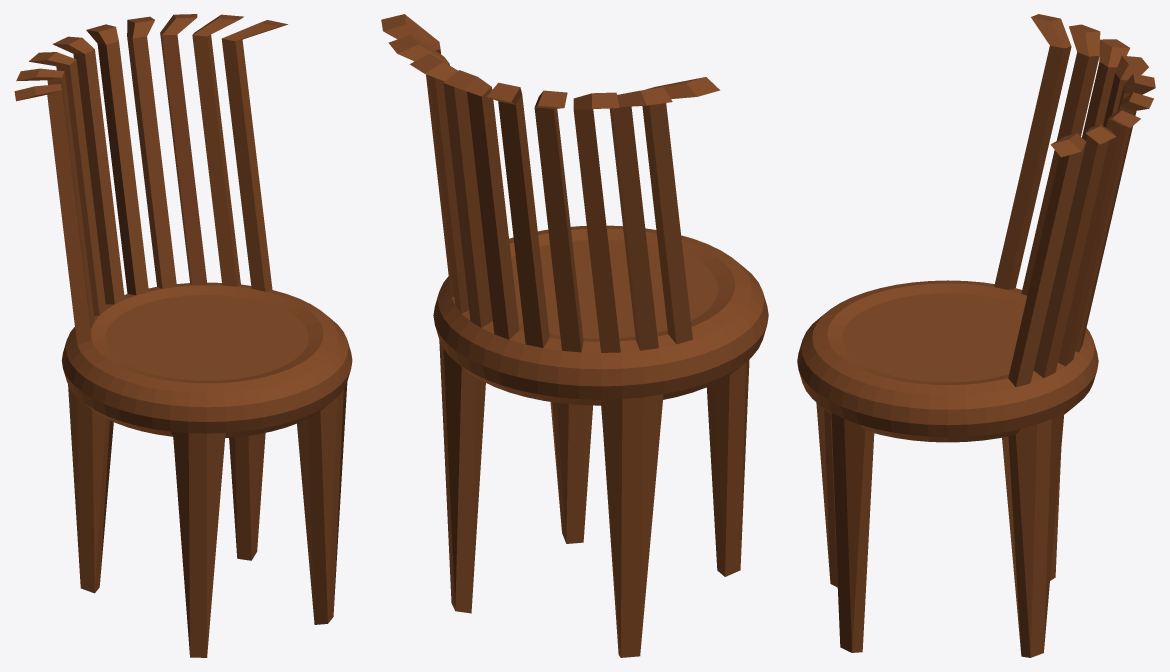
File: GOODCHAIR.fbx
The picture shows the model from 3 angles, left to right: view 1: azimuth 30°, elevation 25°; view 2: azimuth 150°, elevation 25°; view 3: azimuth 270°, elevation 25°; orthographic projection. The views are drawn at different scales.
Parts seen in each view (by area): view 1: Torus; view 2: Torus; view 3: Torus.
Boxes of the visible parts, box(x1,y1,x2,y2) form: Torus: box(14, 14, 352, 657); Torus: box(381, 14, 768, 657); Torus: box(797, 14, 1155, 657).
Bounding box in the file's own units: 281 × 487 × 297.
